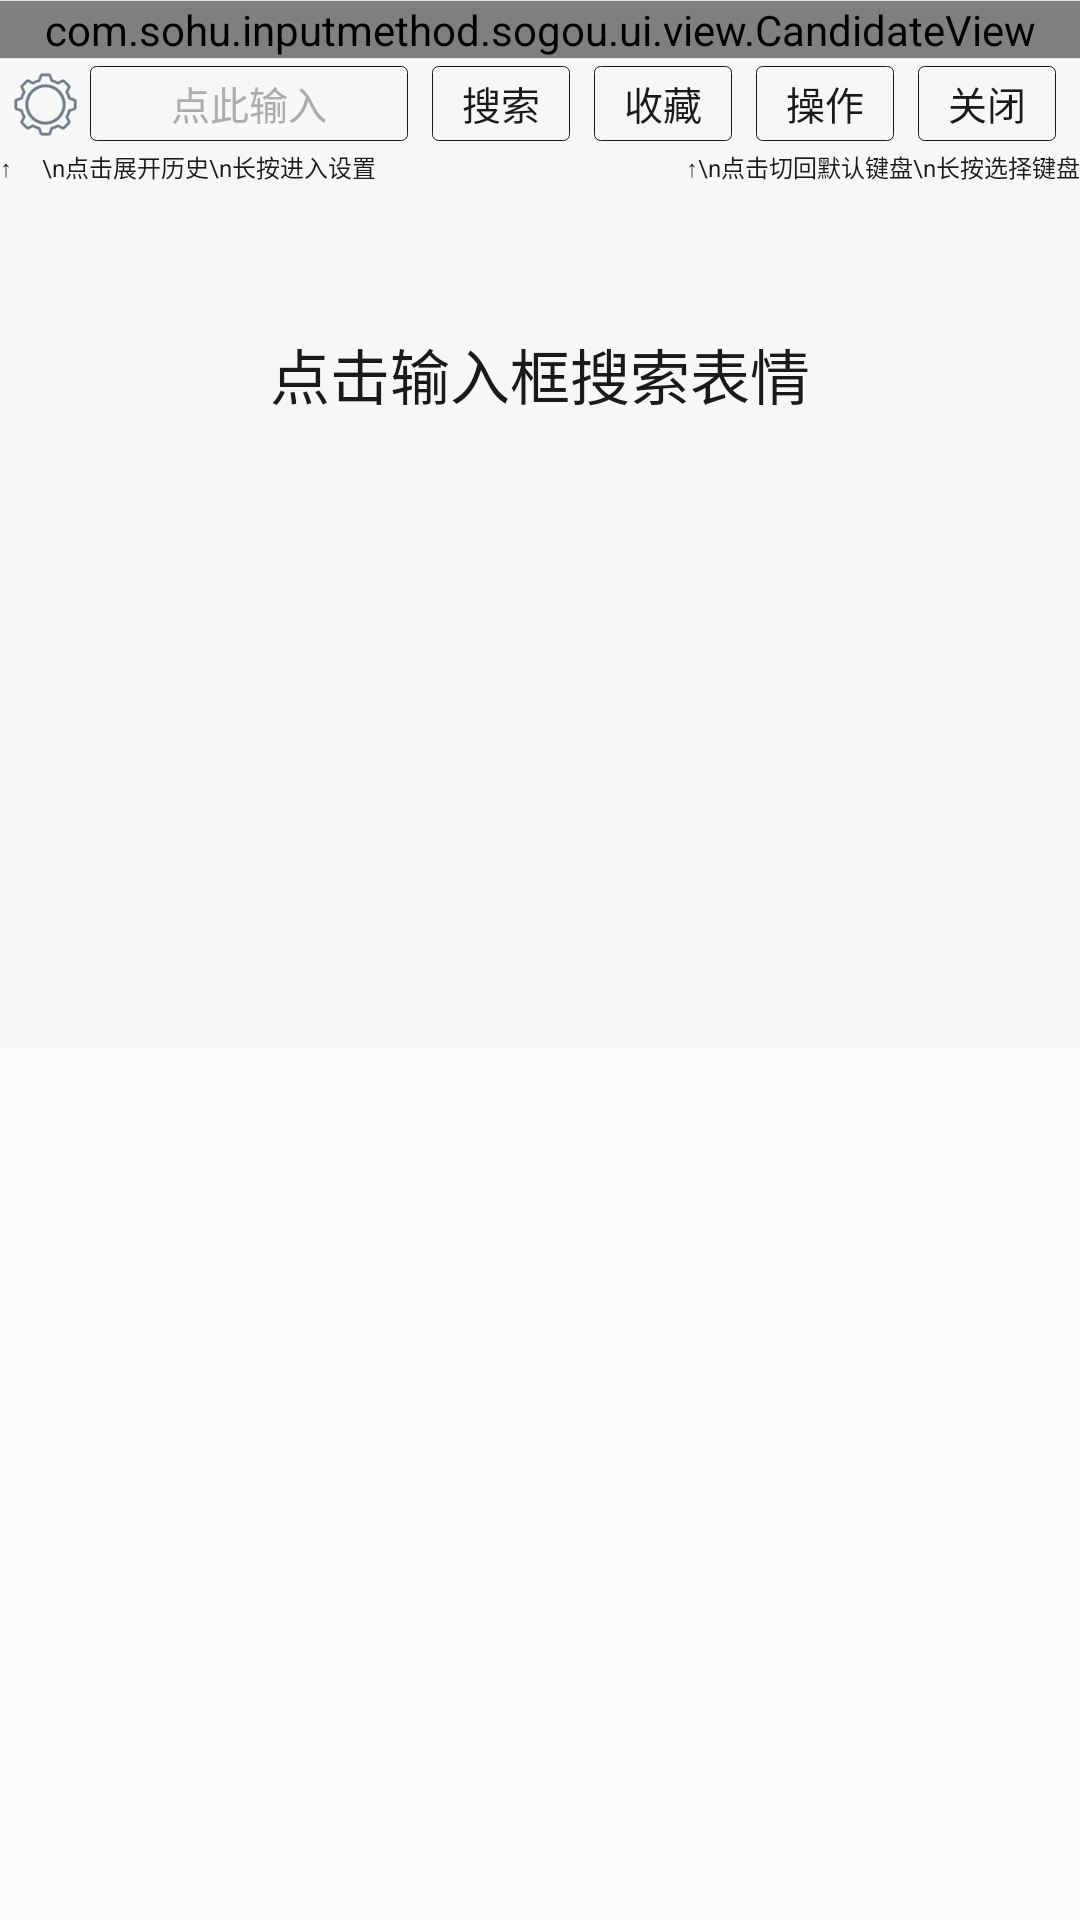

Icon bounding boxes for this 1080w x 1920h phone screenshot, format (x1, y1, x2, y2):
setting: (14, 73, 77, 136)
